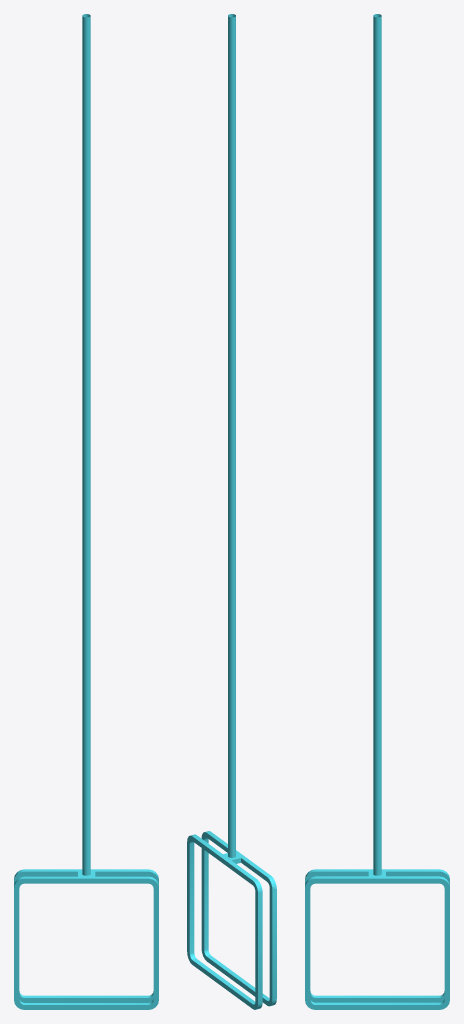
File: cutter7_cube.fbx
3 views of the same model, side by side, from view 1: azimuth 90°, elevation 25°; view 2: azimuth 210°, elevation 25°; view 3: azimuth 270°, elevation 25° (orthographic). The views are drawn at different scales.
Visible parts, largest first — view 1: Cutter7_Cube; view 2: Cutter7_Cube; view 3: Cutter7_Cube.
Boxes of the visible parts, box(x1,y1,x2,y2) form: Cutter7_Cube: box(14, 14, 158, 1009); Cutter7_Cube: box(187, 14, 276, 1009); Cutter7_Cube: box(305, 14, 449, 1009).
Bounding box in the file's own units: 16.5 × 814 × 108.
